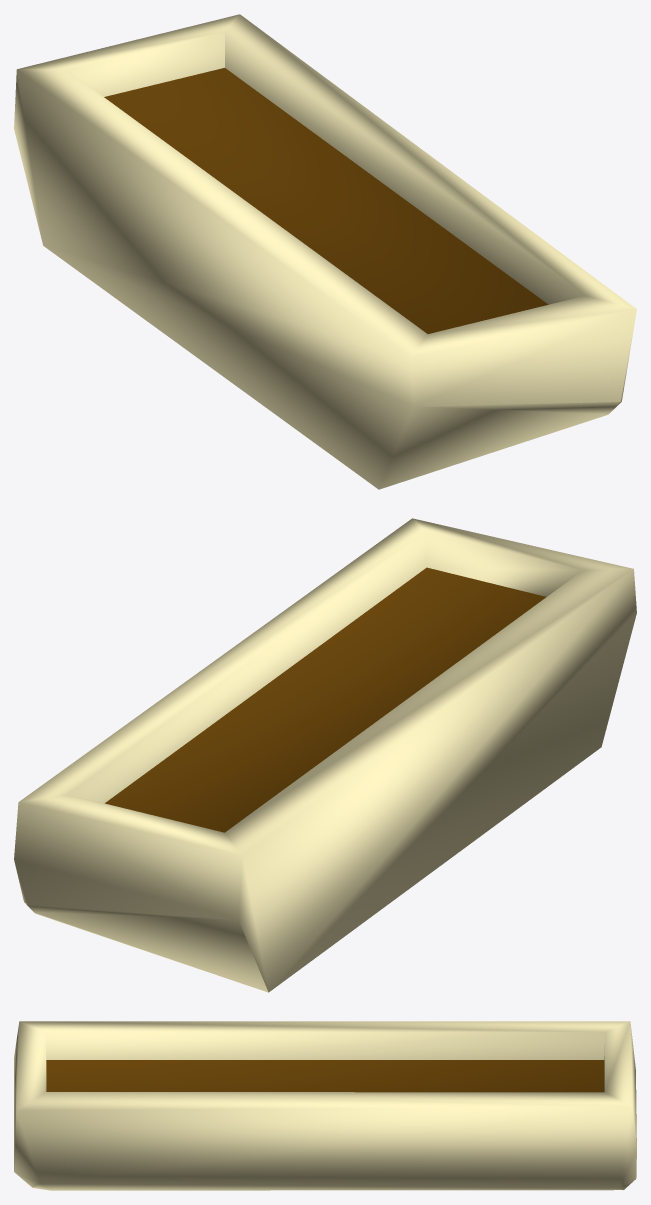
Rendered from Module_Window_Planter_Long_02_LOD02.fbx.
The picture shows the model from 3 angles, top to bottom: view 1: azimuth 30°, elevation 25°; view 2: azimuth 150°, elevation 25°; view 3: azimuth 270°, elevation 25°; orthographic projection. The views are drawn at different scales.
Visible parts, largest first — view 1: Module_Window_Planter_Long_02_LOD02_Geometry; view 2: Module_Window_Planter_Long_02_LOD02_Geometry; view 3: Module_Window_Planter_Long_02_LOD02_Geometry.
Part boxes in pixels (<box>): Module_Window_Planter_Long_02_LOD02_Geometry: <box>14,14,636,489</box>; Module_Window_Planter_Long_02_LOD02_Geometry: <box>14,518,636,992</box>; Module_Window_Planter_Long_02_LOD02_Geometry: <box>14,1021,636,1190</box>.
Bounding box in the file's own units: 0.6537 × 0.4399 × 2.
